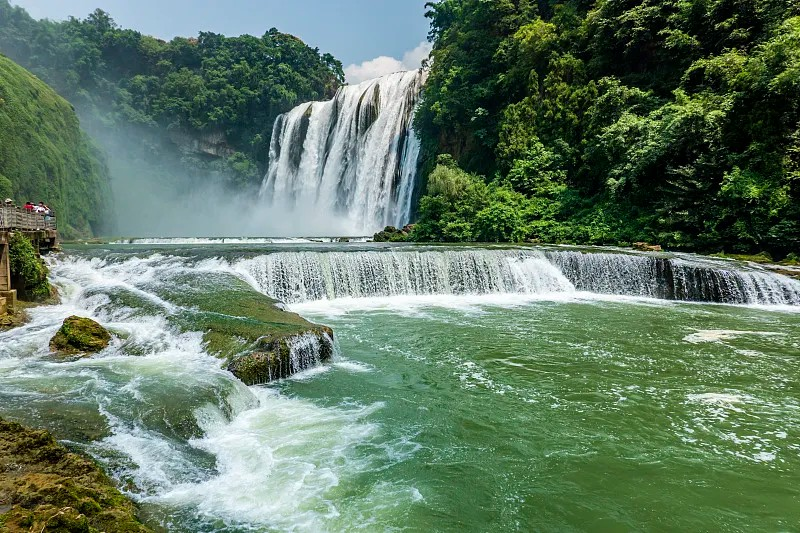Huangguoshu: (260, 67, 420, 235)
